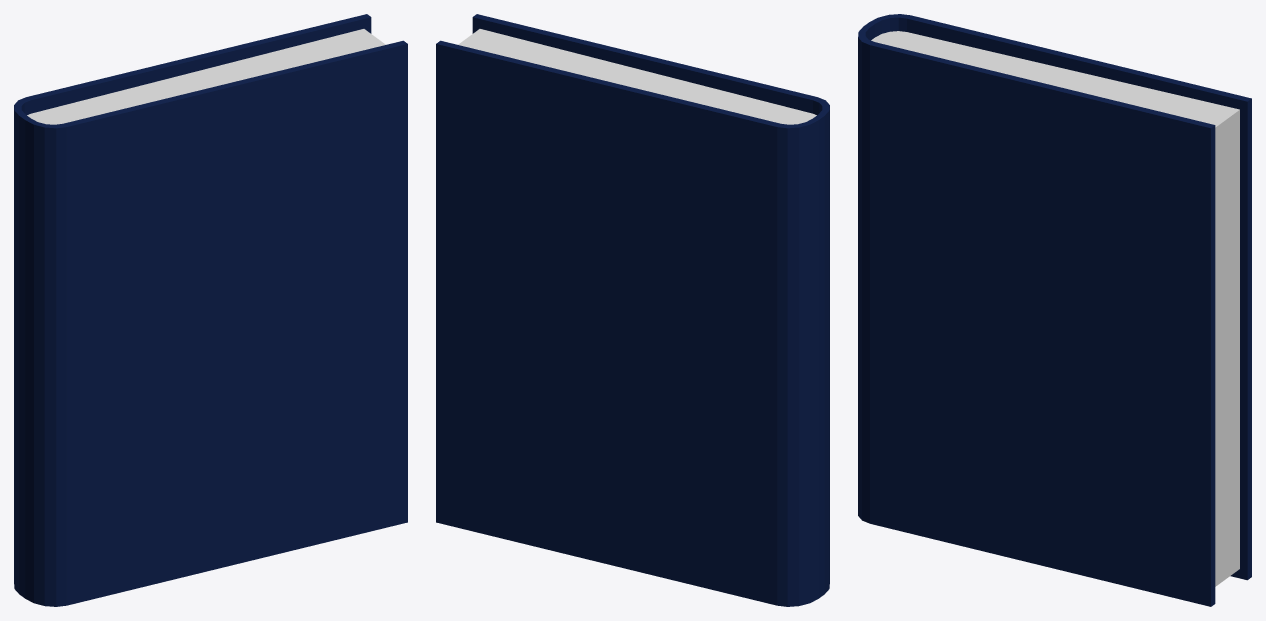
Rendered from book_1.fbx.
The picture shows the model from 3 angles, left to right: view 1: azimuth 30°, elevation 25°; view 2: azimuth 150°, elevation 25°; view 3: azimuth 330°, elevation 25°; orthographic projection.
Parts seen in each view (by area): view 1: book_1_export; view 2: book_1_export; view 3: book_1_export.
Boxes of the visible parts, x1=… form: book_1_export: x1=14, y1=14, x2=407, y2=606; book_1_export: x1=436, y1=14, x2=829, y2=606; book_1_export: x1=858, y1=14, x2=1251, y2=606.
Size of the model in its own units: 45.3 by 56.75 by 8.77.
